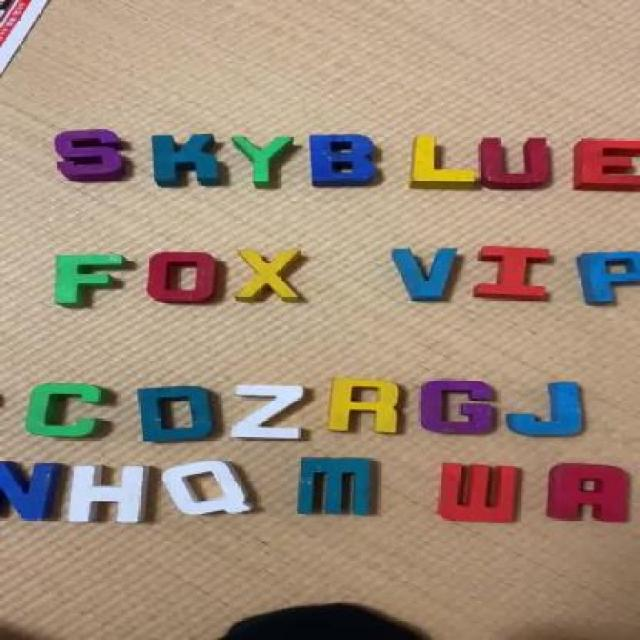A: (542, 463, 633, 522)
B: (310, 134, 378, 188)
C: (24, 383, 108, 439)
D: (138, 387, 216, 442)
E: (573, 137, 639, 189)
F: (57, 253, 128, 304)
G: (414, 377, 500, 435)
H: (65, 465, 149, 524)
I: (479, 246, 552, 302)
J: (502, 381, 587, 437)
K: (150, 134, 224, 186)
L: (409, 136, 474, 187)
M: (301, 457, 377, 518)
O: (150, 253, 216, 299)
P: (582, 247, 640, 304)
Q: (165, 462, 253, 516)
R: (328, 378, 404, 436)
S: (59, 129, 123, 180)
U: (482, 138, 549, 187)
V: (394, 248, 460, 302)
W: (436, 462, 524, 522)
X: (235, 249, 298, 300)
Y: (235, 138, 292, 185)
Z: (236, 385, 310, 441)
